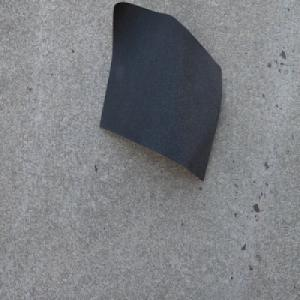PaintChip: (99, 1, 222, 182)
